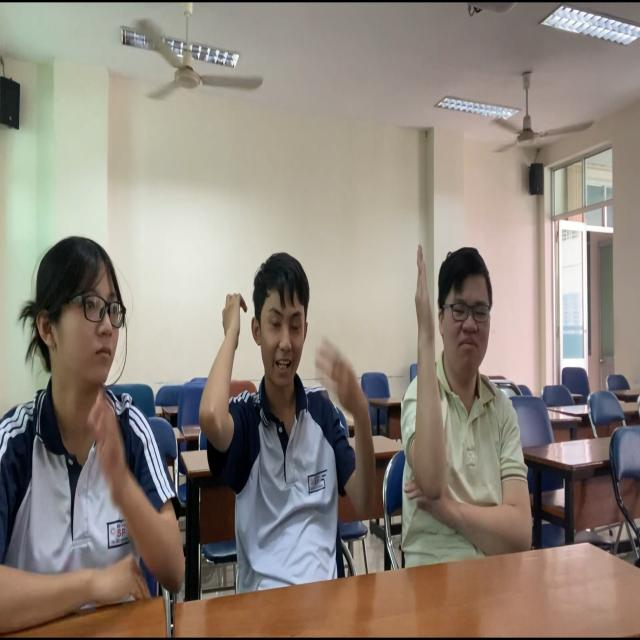raise_hand: (397, 228, 548, 584)
